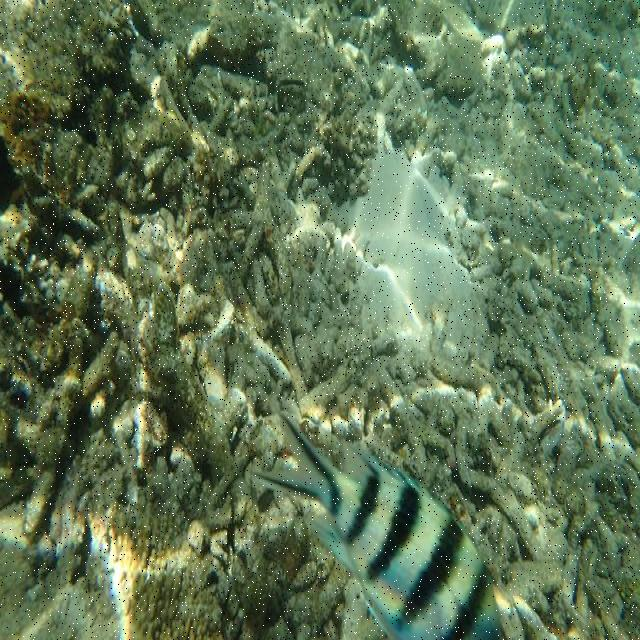fish: (250, 413, 503, 638)
